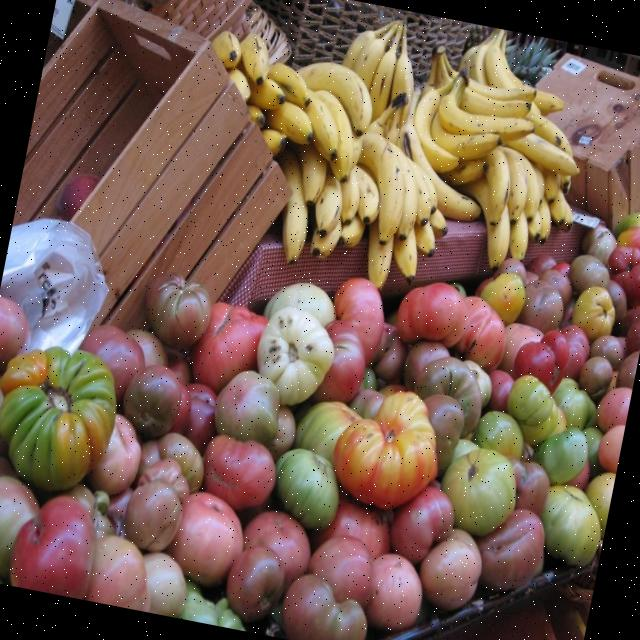banana: (439, 76, 535, 143), (296, 62, 373, 137), (357, 132, 406, 246)
